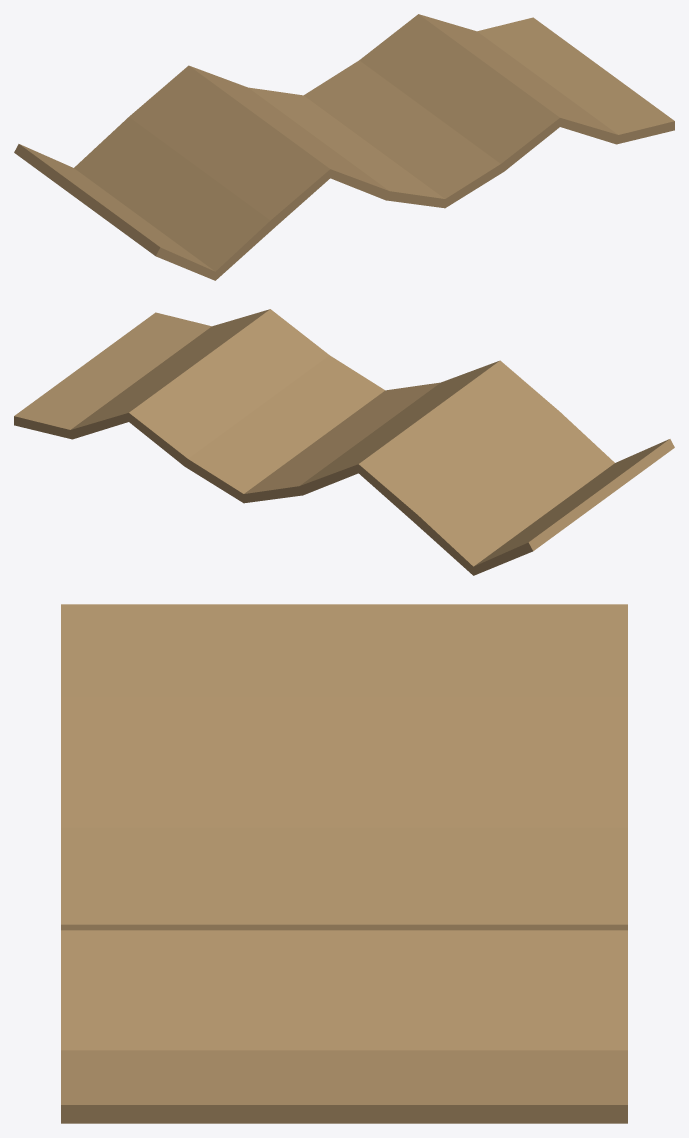
File: trashPaper.fbx
3 renders of one model, top to bottom at view 1: azimuth 30°, elevation 25°; view 2: azimuth 150°, elevation 25°; view 3: azimuth 270°, elevation 25°, orthographic. The views are drawn at different scales.
Parts seen in each view (by area): view 1: TrashPaper; view 2: TrashPaper; view 3: TrashPaper.
Boxes of the visible parts, x1,y1,x2,y2 form: TrashPaper: [14, 14, 674, 280]; TrashPaper: [14, 309, 674, 575]; TrashPaper: [61, 604, 627, 1123].
Size of the model in its own units: 259 by 39.98 by 123.
